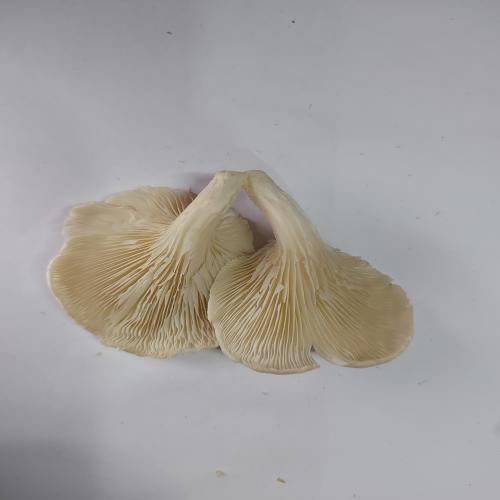Oyster Mushroom: (206, 169, 415, 375), (46, 170, 256, 359)
